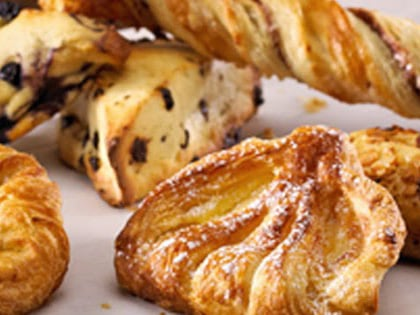salad: (112, 124, 412, 315), (0, 143, 70, 315), (348, 125, 420, 263)
